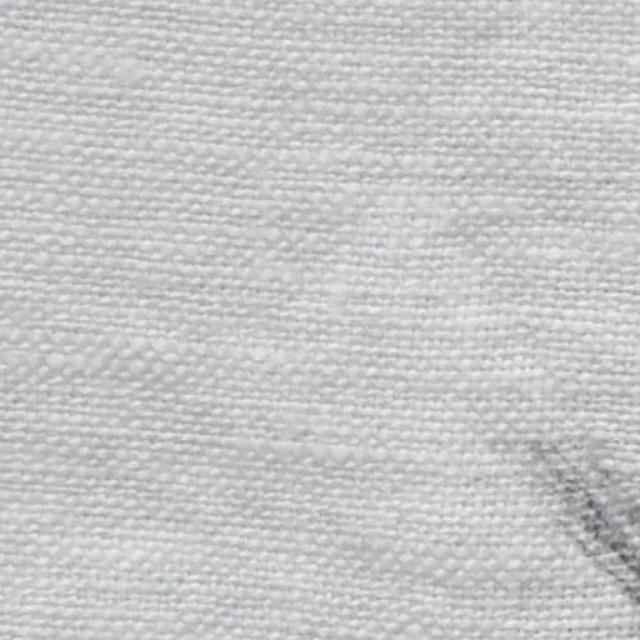Stain: (524, 421, 639, 621)
